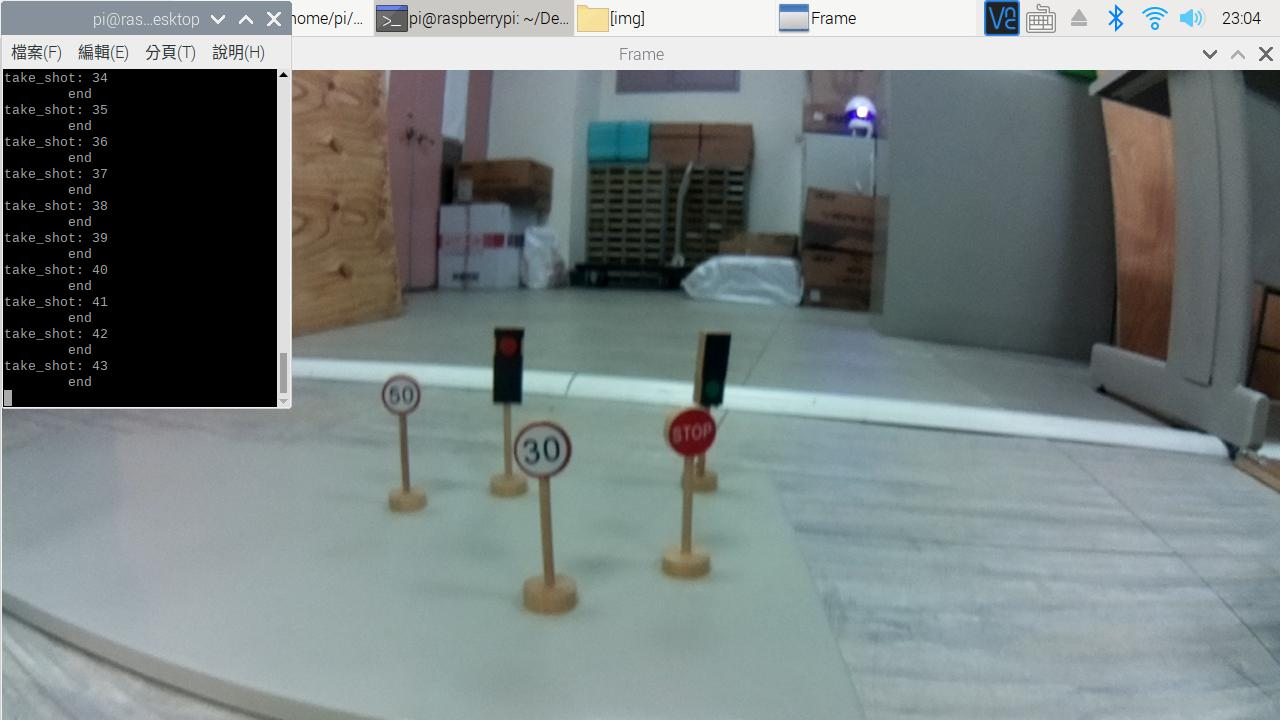Green: (696, 329, 733, 408)
Red: (490, 324, 529, 404)
Speed30: (510, 425, 584, 477)
Speed50: (377, 366, 424, 422)
Stop: (668, 411, 719, 462)
